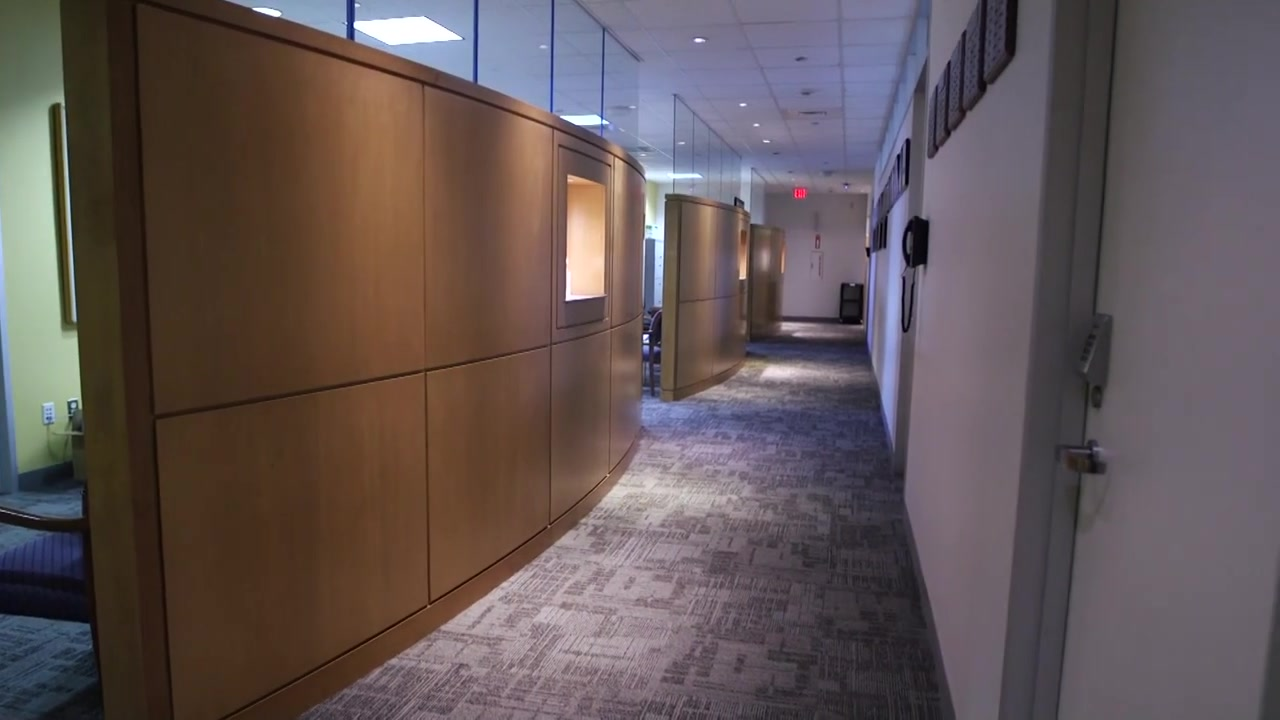chair: (1, 451, 98, 693), (643, 302, 670, 395)
door_handle: (1053, 438, 1115, 489)
telephone: (897, 215, 930, 269)
